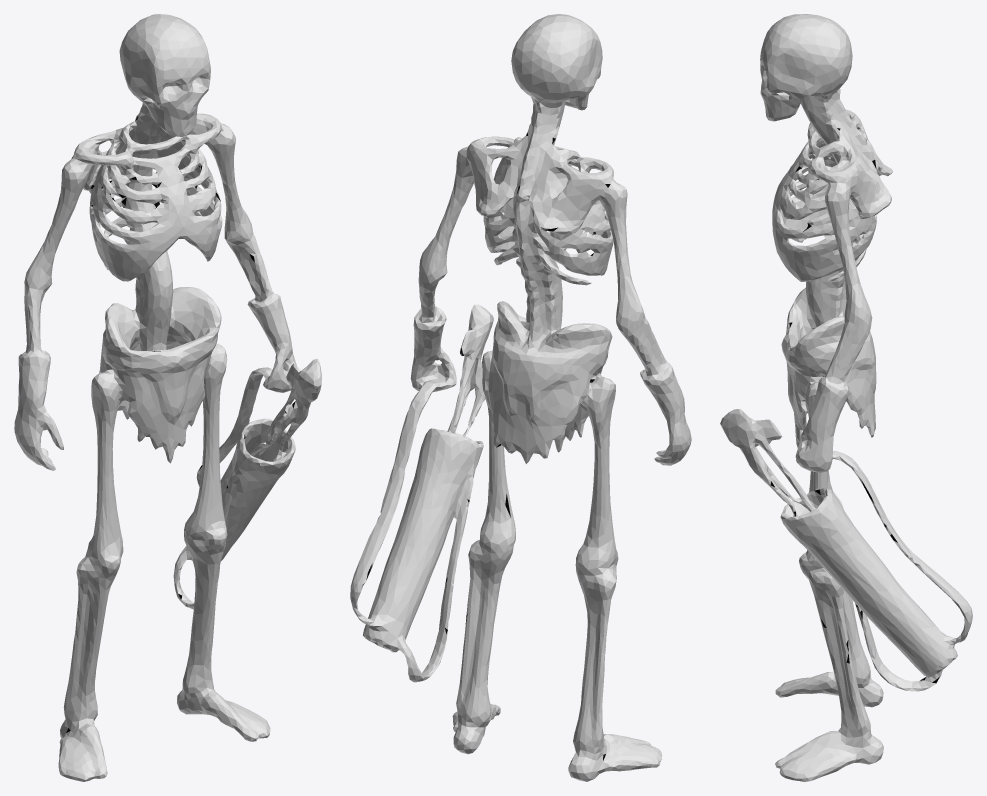
File: enemy_skel_ranged2.glb
3 views of the same model, side by side, from view 1: azimuth 30°, elevation 25°; view 2: azimuth 150°, elevation 25°; view 3: azimuth 270°, elevation 25° (orthographic). The views are drawn at different scales.
Parts seen in each view (by area): view 1: Low; view 2: Low; view 3: Low.
Boxes of the visible parts, <box> form: Low: <box>14,14,321,781</box>; Low: <box>350,14,691,781</box>; Low: <box>720,14,972,781</box>.
Bounding box in the file's own units: 0.7862 × 1.98 × 0.6349.
1 material, 1 textured.
